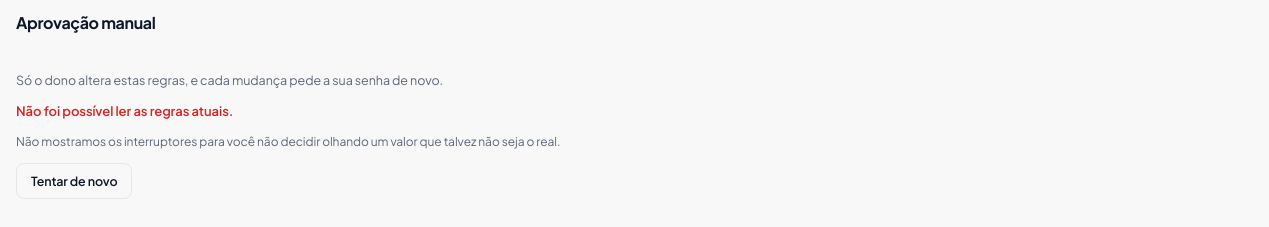
Test: Aprovação manual (interruptores) › se não consegue ler as regras, não mostra interruptores no escuro
Expected: the text "Não foi possível ler as regras atuais." is shown, [16, 102, 233, 121]
Click the button "Tentar de novo" at x=74, y=181, box [16, 163, 132, 199]
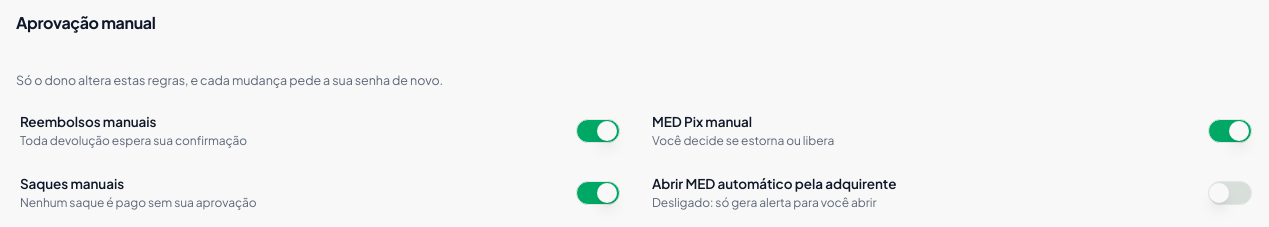
Expected: the number of switches is 4, [576, 119, 620, 143]; [1208, 119, 1252, 143]; [576, 181, 620, 205]; [1208, 181, 1252, 205]
